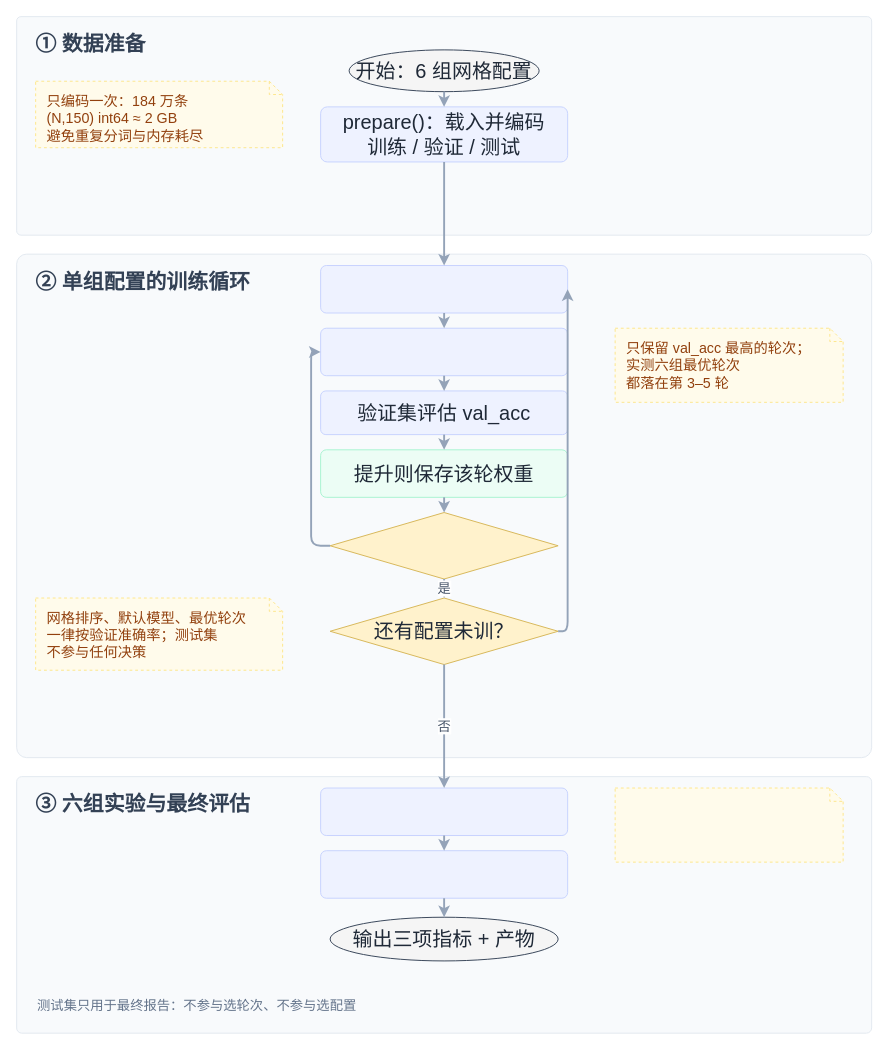
Some shapes in this 888 by 1050 pixel diagram are drawn without their labels. The box of each missing label's shape, as (x1, y1, x2, y2) in pixels:
产物：checkpoint_*.pt + vocab.json + meta.json （vocab_size 与模型同源）: (614, 787, 843, 862)
初始化模型 / Adam(1e-3): (320, 265, 568, 313)
已满 15 轮？: (329, 512, 558, 579)
测试集评估（仅报告一次）: (320, 850, 568, 898)
训练一个 epoch（batch=64）: (320, 327, 568, 376)
载入各组最佳权重: (320, 787, 568, 836)
